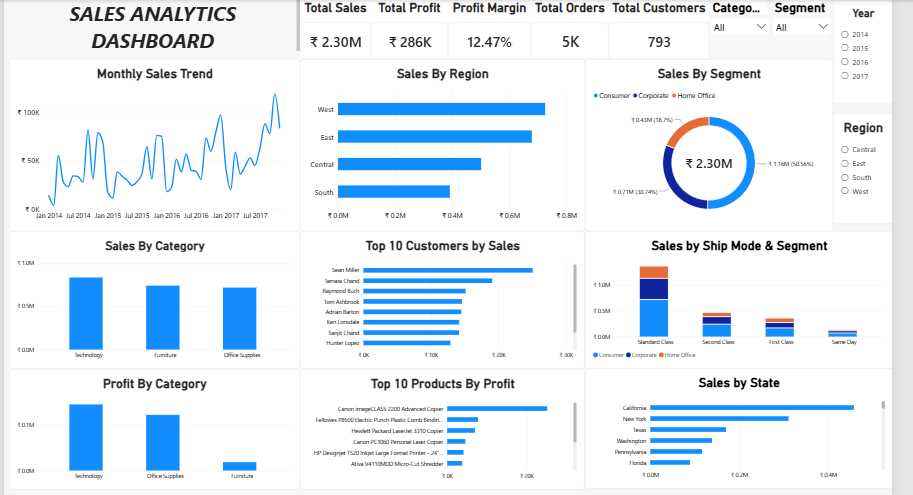

The page's visual inventory and layout, read from the dashboard file:
{"tool":"powerbi","page":{"name":"Sales Dashboard","canvas":[1920,1080],"ordinal":0},"visuals":[{"type":"cardVisual","title":"Total Sales","fields":{"Data":["Sheet1.Total Sales"]},"box":[639.4,0,153.4,127.4],"z":0},{"type":"cardVisual","title":"Total Profit ","fields":{"Data":["Sheet1.Total Profit"]},"box":[792.7,0,166.3,127.4],"z":1000},{"type":"cardVisual","title":"Profit Margin","fields":{"Data":["Sheet1.Profit Margin"]},"box":[959,0,179.3,127.4],"z":2000},{"type":"cardVisual","title":"Total Orders","fields":{"Data":["Sheet1.Total Orders"]},"box":[1138.3,0,168.5,127.4],"z":3000},{"type":"cardVisual","title":"Total Customers","fields":{"Data":["Sheet1.Total Customers"]},"box":[1306.8,0,216,127.4],"z":4000},{"type":"lineChart","title":"Monthly Sales Trend","fields":{"Y":["Sheet1.Total Sales"],"Category":["Sheet1.Month Year"]},"box":[10.8,127.4,628.6,371.5],"z":5000},{"type":"lineClusteredColumnComboChart","title":"Sales By Category ","fields":{"Y":["Sheet1.Total Sales"],"Category":["Sheet1.Category"]},"box":[10.8,499,628.6,298.1],"z":6000},{"type":"lineClusteredColumnComboChart","title":"Profit By Category","fields":{"Category":["Sheet1.Category"],"Y":["Sheet1.Total Profit"]},"box":[10.8,797,628.6,261.4],"z":7000},{"type":"clusteredBarChart","title":"Sales By Region","fields":{"Category":["Sheet1.Region"],"Y":["Sheet1.Total Sales"]},"box":[639.4,127.4,615.6,371.5],"z":8000},{"type":"clusteredBarChart","title":"Top 10 Customers by Sales","fields":{"Category":["Sheet1.Customer Name"],"Y":["Sheet1.Total Sales"]},"box":[640,499,615,298],"z":8001},{"type":"clusteredBarChart","title":"Top 10 Products By Profit","fields":{"Category":["Sheet1.Product Name"],"Y":["Sheet1.Total Profit"]},"box":[640,797,615,261],"z":8002},{"type":"donutChart","title":"Sales By Segment","fields":{"Category":["Sheet1.Segment"],"Y":["Sheet1.Total Sales"]},"box":[1255,127.4,535.7,371.5],"z":8003},{"type":"columnChart","title":"Sales by Ship Mode & Segment","fields":{"Category":["Sheet1.Ship Mode"],"Y":["Sheet1.Total Sales"],"Series":["Sheet1.Segment"]},"box":[1255,499,665.3,298.1],"z":8004},{"type":"clusteredBarChart","title":"Sales by State","fields":{"Category":["Sheet1.State"],"Y":["Sheet1.Total Sales"]},"box":[1255,794.9,665.3,261.4],"z":8005},{"type":"listSlicer","fields":{"Values":["Sheet1.Year"]},"box":[1790.6,0,129.6,224.6],"z":8006},{"type":"listSlicer","title":"Region","fields":{"Values":["Sheet1.Region"]},"box":[1790.6,244.1,129.6,239.8],"z":8007},{"type":"slicer","fields":{"Values":["Sheet1.Category"]},"box":[1522.8,0,133.9,127.4],"z":8008},{"type":"slicer","fields":{"Values":["Sheet1.Segment"]},"box":[1656.7,0,133.9,127.4],"z":8009},{"type":"textbox","box":[10.8,0,628.6,112.3],"z":8010}]}

Visuals, with their boxes on the page's 1920x1080 design canvas (x1, y1, x2, y2). These are canvas units, not pixel positions in the 913x495 screenshot, which may show the page scaled, cropped or inside an application window:
"Total Sales" cardVisual: [639, 0, 793, 127]
"Total Profit " cardVisual: [793, 0, 959, 127]
"Profit Margin" cardVisual: [959, 0, 1138, 127]
"Total Orders" cardVisual: [1138, 0, 1307, 127]
"Total Customers" cardVisual: [1307, 0, 1523, 127]
"Monthly Sales Trend" lineChart: [11, 127, 639, 499]
"Sales By Category " lineClusteredColumnComboChart: [11, 499, 639, 797]
"Profit By Category" lineClusteredColumnComboChart: [11, 797, 639, 1058]
"Sales By Region" clusteredBarChart: [639, 127, 1255, 499]
"Top 10 Customers by Sales" clusteredBarChart: [640, 499, 1255, 797]
"Top 10 Products By Profit" clusteredBarChart: [640, 797, 1255, 1058]
"Sales By Segment" donutChart: [1255, 127, 1791, 499]
"Sales by Ship Mode & Segment" columnChart: [1255, 499, 1920, 797]
"Sales by State" clusteredBarChart: [1255, 795, 1920, 1056]
listSlicer - Sheet1.Year: [1791, 0, 1920, 225]
"Region" listSlicer: [1791, 244, 1920, 484]
slicer - Sheet1.Category: [1523, 0, 1657, 127]
slicer - Sheet1.Segment: [1657, 0, 1791, 127]
textbox: [11, 0, 639, 112]
